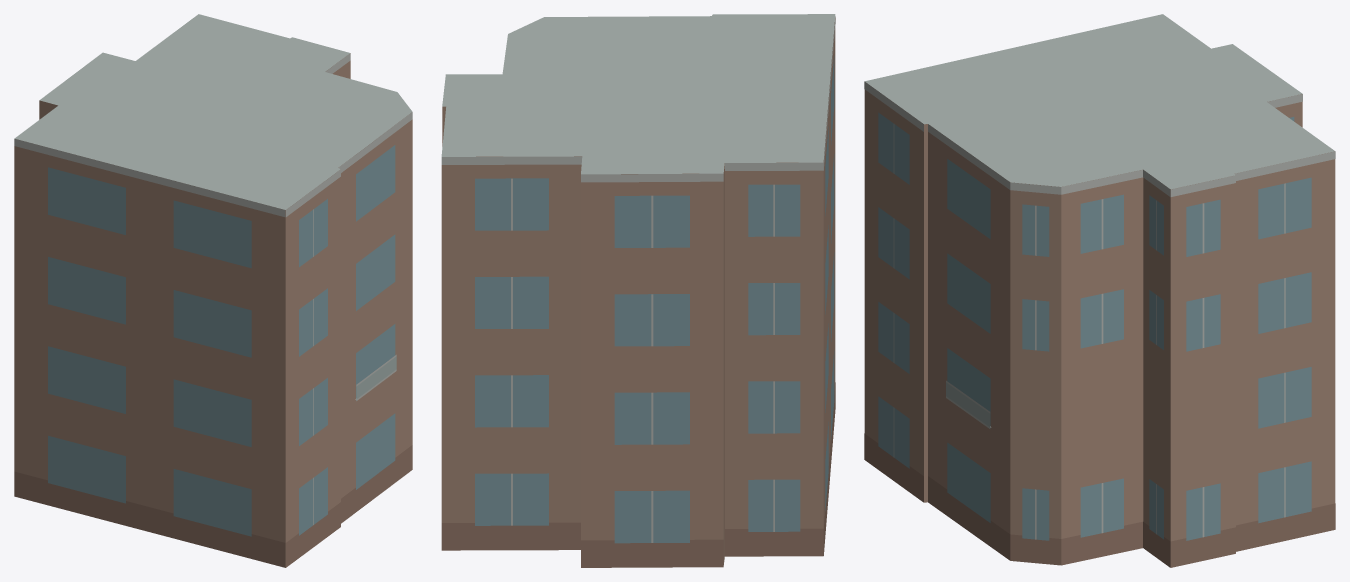
Rendered from survey-upis-32671799.glb.
3 renders of one model, left to right at view 1: azimuth 30°, elevation 25°; view 2: azimuth 150°, elevation 25°; view 3: azimuth 270°, elevation 25°, orthographic. The views are drawn at different scales.
Visible parts, largest first — view 1: survey-upis-32671799.tmp; view 2: survey-upis-32671799.tmp; view 3: survey-upis-32671799.tmp.
Part boxes in pixels (x1,y1,x2,y2): survey-upis-32671799.tmp: [14, 14, 412, 567]; survey-upis-32671799.tmp: [441, 14, 835, 567]; survey-upis-32671799.tmp: [864, 14, 1335, 567].
Bounding box in the file's own units: 11.74 × 11.8 × 13.32.
